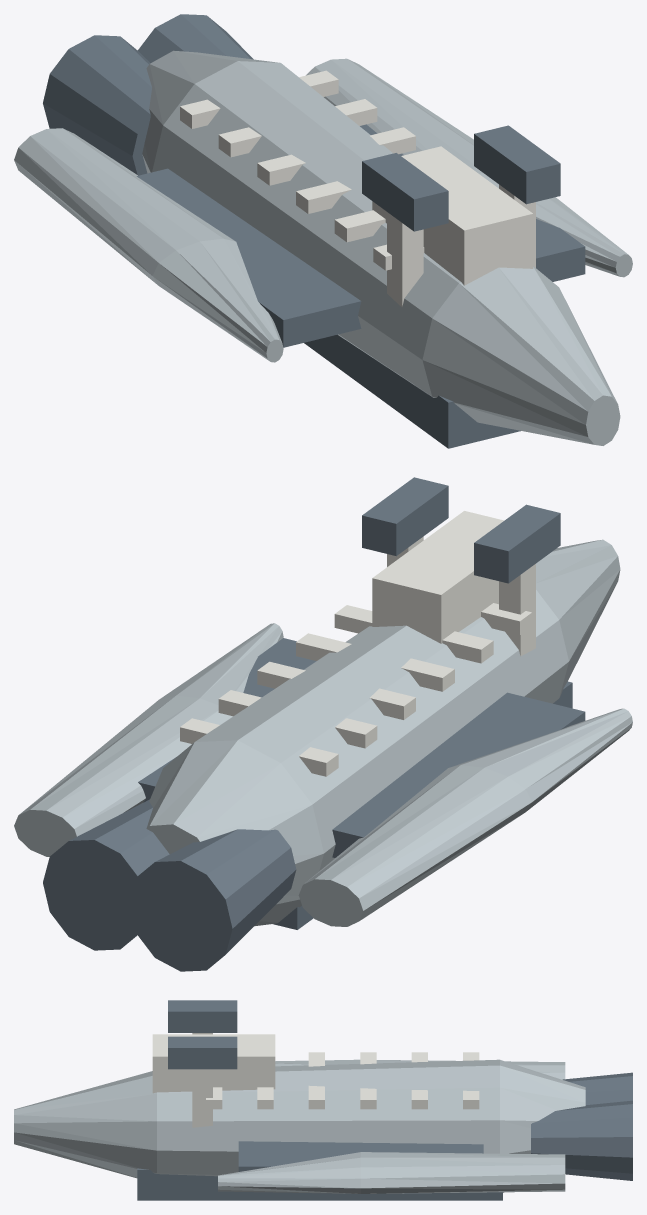
The picture shows the model from 3 angles, top to bottom: view 1: azimuth 30°, elevation 25°; view 2: azimuth 150°, elevation 25°; view 3: azimuth 270°, elevation 25°; orthographic projection. The views are drawn at different scales.
Size of the model in its own units: 3.17 by 1.97 by 6.73.
